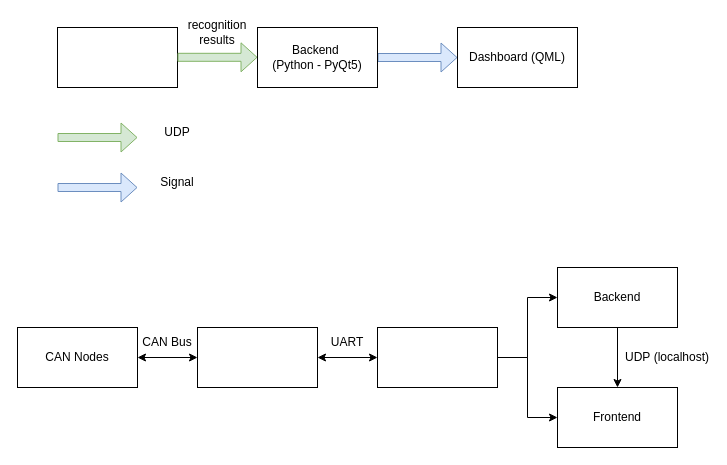
Some shapes in this 727 by 465 pixel diagram are drawn without their labels. Each missing label, with the box of its shape:
Central Unit: (376, 326, 498, 388)
Gateway Node (CAN ↔ UART, FreeRTOS): (196, 326, 318, 388)
Model AI: (56, 26, 178, 88)
